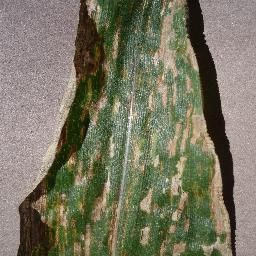Gray_Leaf_Spot: (11, 0, 236, 256)
